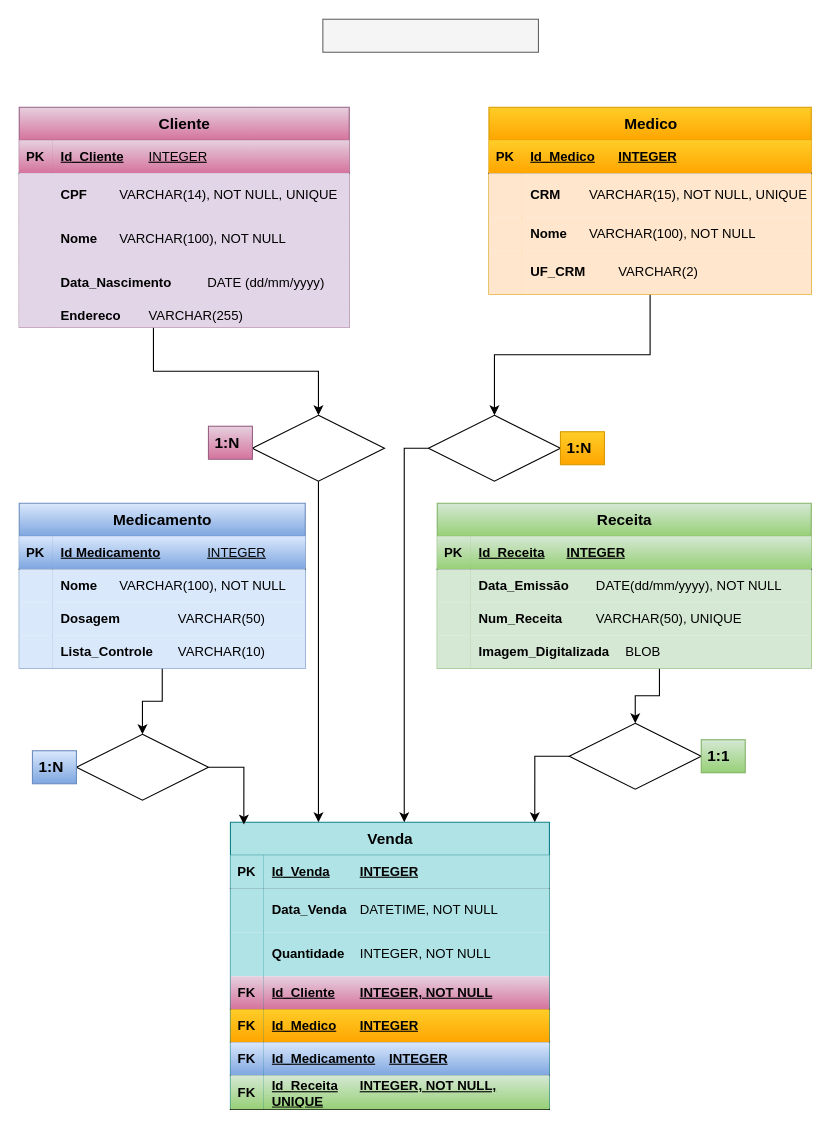
This 831x1129 diagram has some shape labels left out. The centre of each missing label's shape, as x and y in pixels:
"autoriza" belongs at (634,755).
"esta_na" belongs at (141,766).
"Possui" belongs at (317,447).
"Prescreve" belongs at (493,447).
"SysTraceMed" belongs at (430,35).
